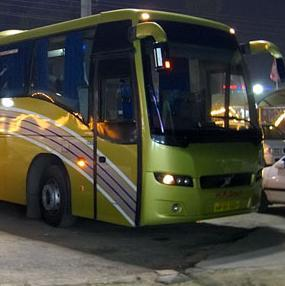Bus: (0, 9, 285, 229)
